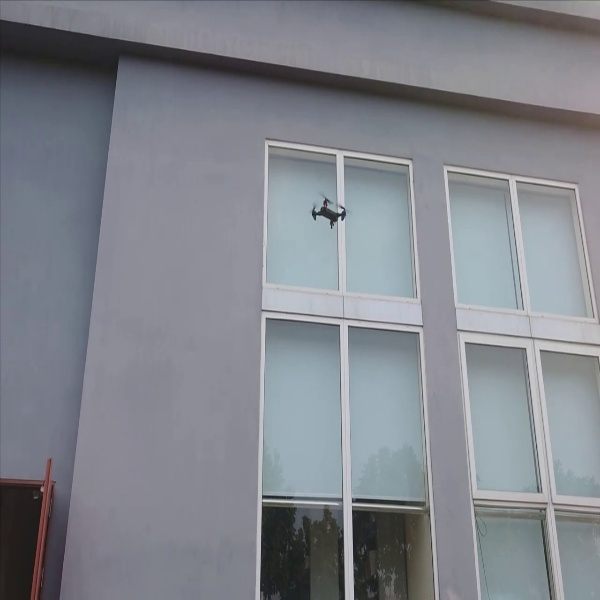drone: (305, 186, 346, 229)
